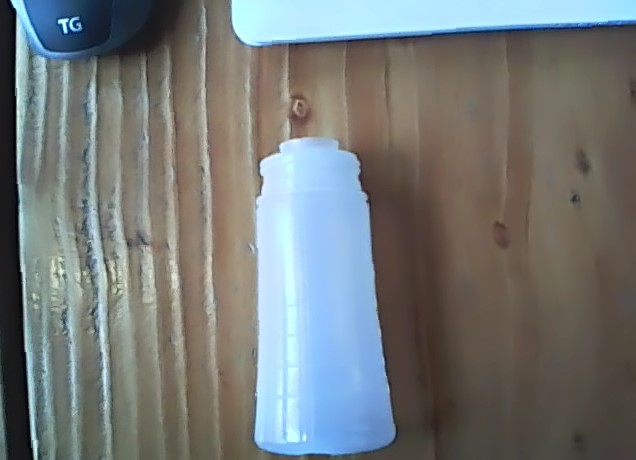Plastic: (241, 128, 403, 458)
